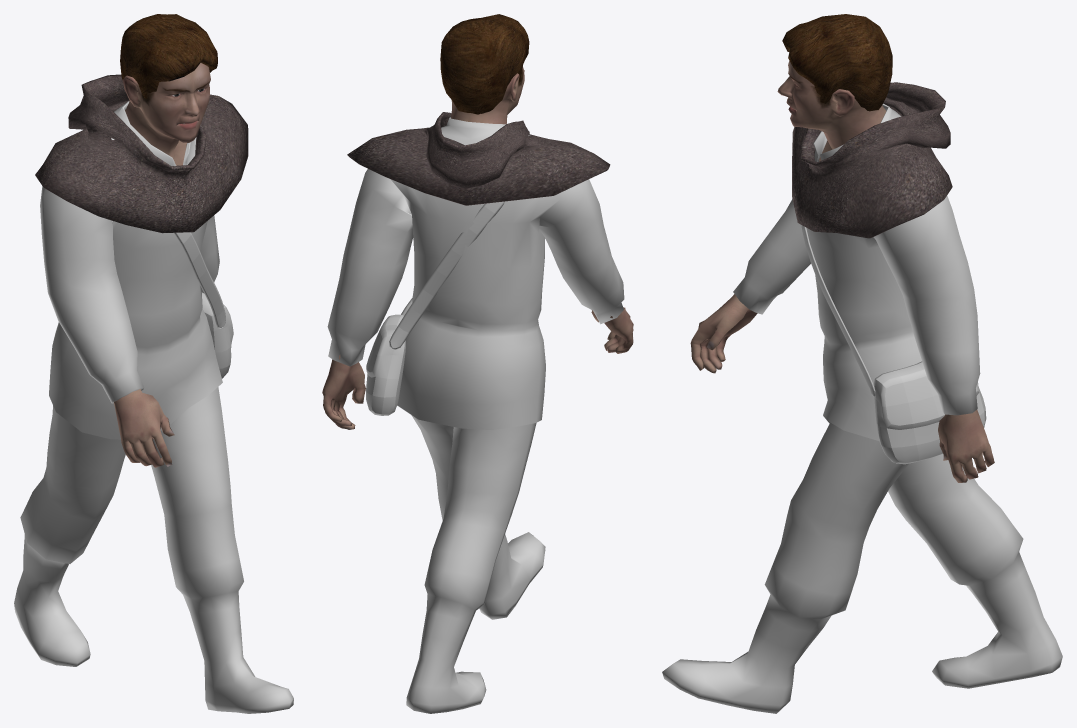
The model's file is Hero_Standing_Ref.FBX.
The picture shows the model from 3 angles, left to right: view 1: azimuth 30°, elevation 25°; view 2: azimuth 150°, elevation 25°; view 3: azimuth 270°, elevation 25°; orthographic projection. The views are drawn at different scales.
Parts seen in each view (by area): view 1: Hero_Ref, Hood_Ref, Hair_Ref, Bag_Ref; view 2: Hero_Ref, Hood_Ref, Hair_Ref, Bag_Ref; view 3: Hero_Ref, Hood_Ref, Hair_Ref, Bag_Ref.
Part boxes in pixels (x1,y1,x2,y2): Hero_Ref: (14, 63, 293, 713); Hood_Ref: (35, 74, 248, 233); Hair_Ref: (120, 14, 217, 98); Bag_Ref: (174, 232, 233, 378); Hero_Ref: (322, 66, 633, 713); Hood_Ref: (347, 112, 610, 205); Hair_Ref: (440, 14, 529, 114); Bag_Ref: (366, 201, 504, 415); Hero_Ref: (662, 61, 1062, 713); Hood_Ref: (792, 82, 952, 238); Hair_Ref: (782, 14, 892, 111); Bag_Ref: (801, 225, 986, 464).
Bounding box in the file's own units: 64.36 × 174 × 92.91.
